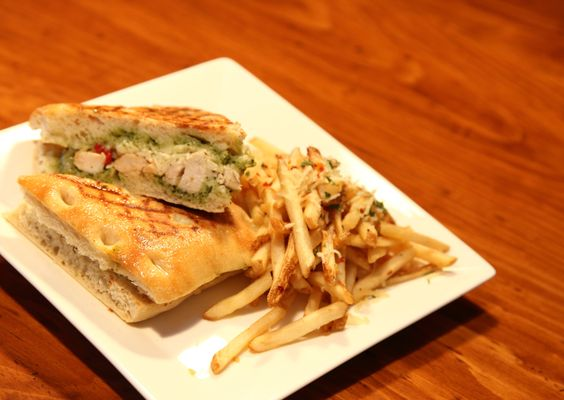soup: (7, 103, 270, 323)
